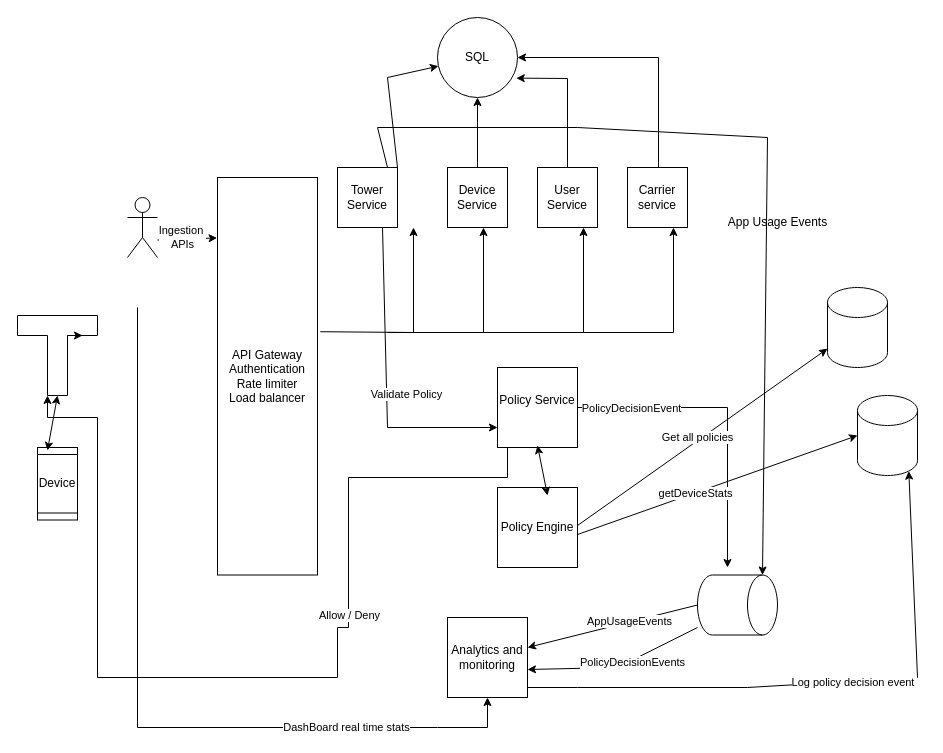
The diagram is 943 pixels wide and 753 high, and some of its shapes have lost their labels. The shapes that lost their labels are listed below. From the top down, each one's centre as x and y in pixels, then its label:
At (142,227): "Admin & Enterprise".
At (857,327): "Policy db".
At (57,355): "Tower".
At (887,435): "Elastic search".
At (737,604): "KAFKA".
